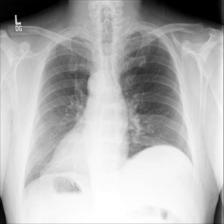normal: (20, 23, 196, 190)
